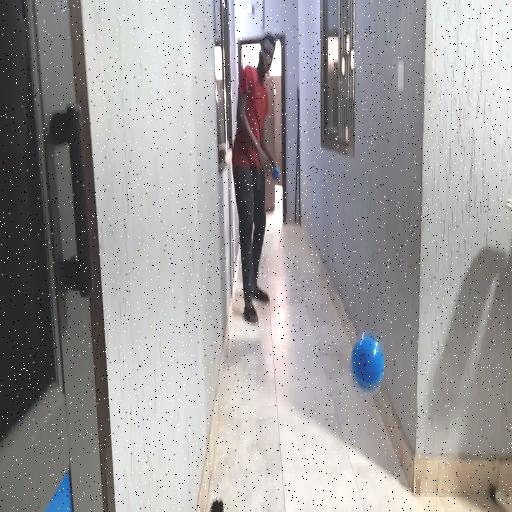plastic-ball: (349, 331, 386, 392)
